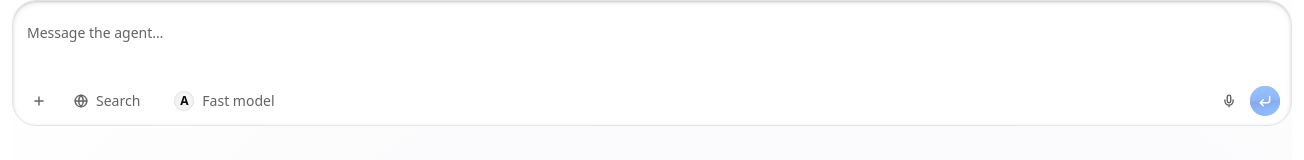
Test case: WorkspaceComposer — @ sources, / commands, skills and effort › an @ inside a word is just text
Click the text box labelled "Message" at (652, 47), box [13,15,1291,79]
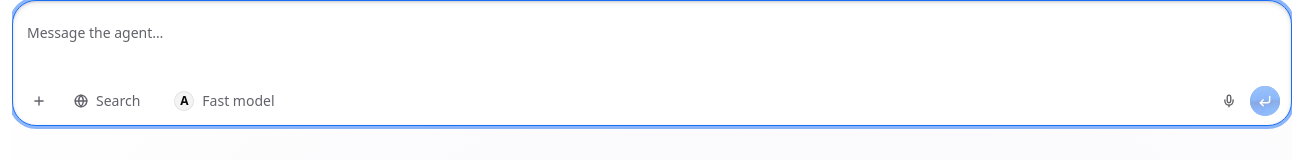
Type keys "me@example.com"
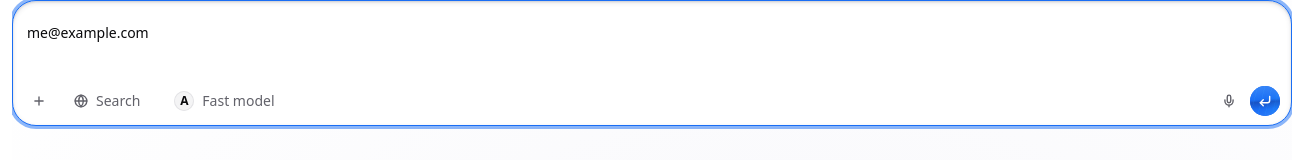
Expected: the text box named "Message" holds "me@example.com", [13,15,1291,79]
